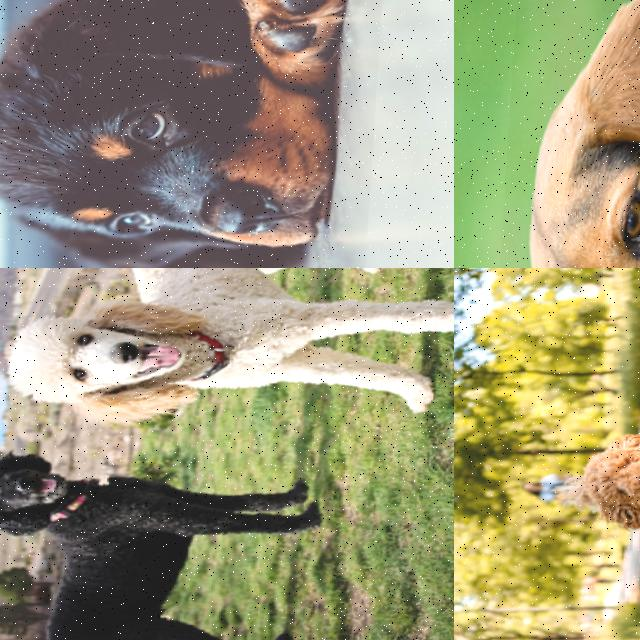beagle: (490, 0, 640, 268)
poodle: (0, 276, 248, 443), (0, 428, 118, 575), (550, 416, 640, 551)
rottweiler: (0, 0, 385, 268)
